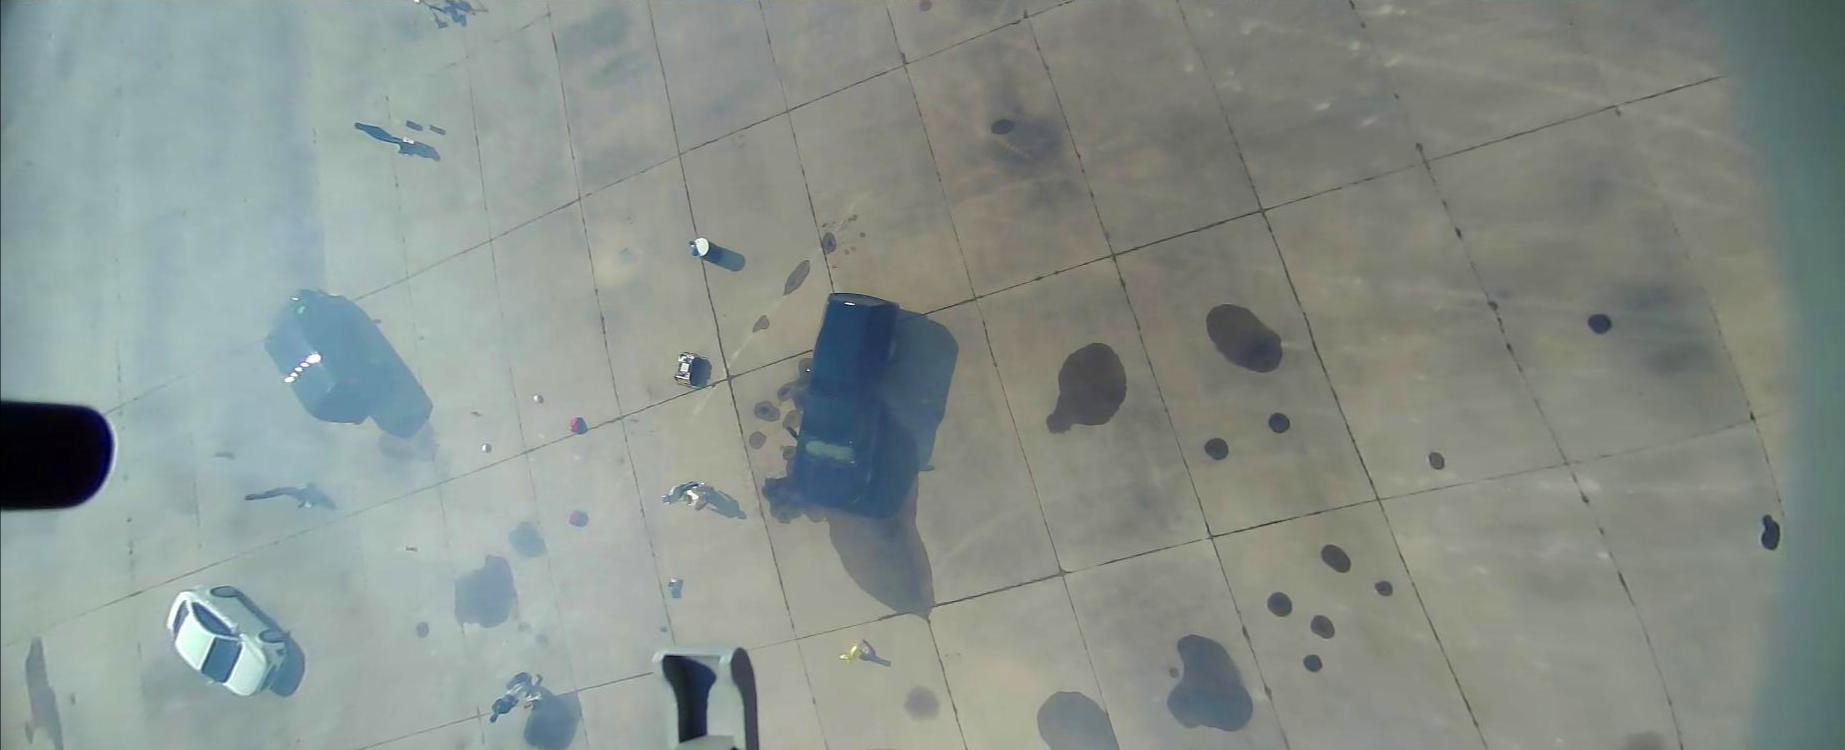vehicle: (786, 291, 902, 511), (260, 287, 386, 425), (165, 585, 289, 697)
